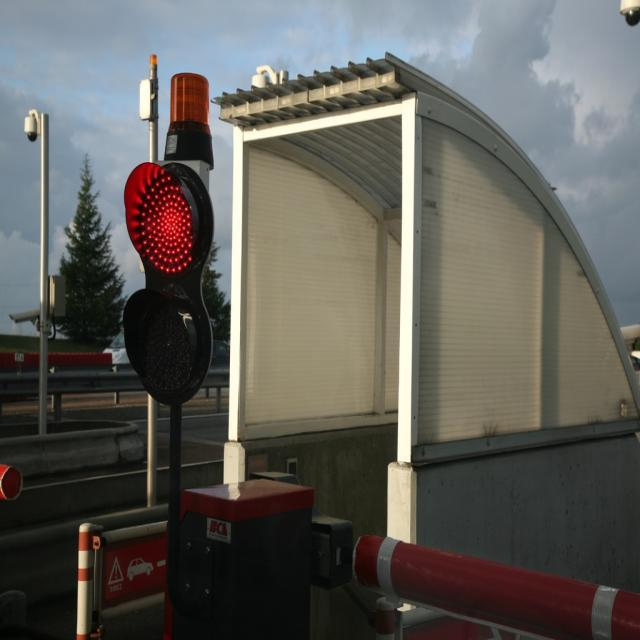traffic light: (116, 139, 223, 403)
